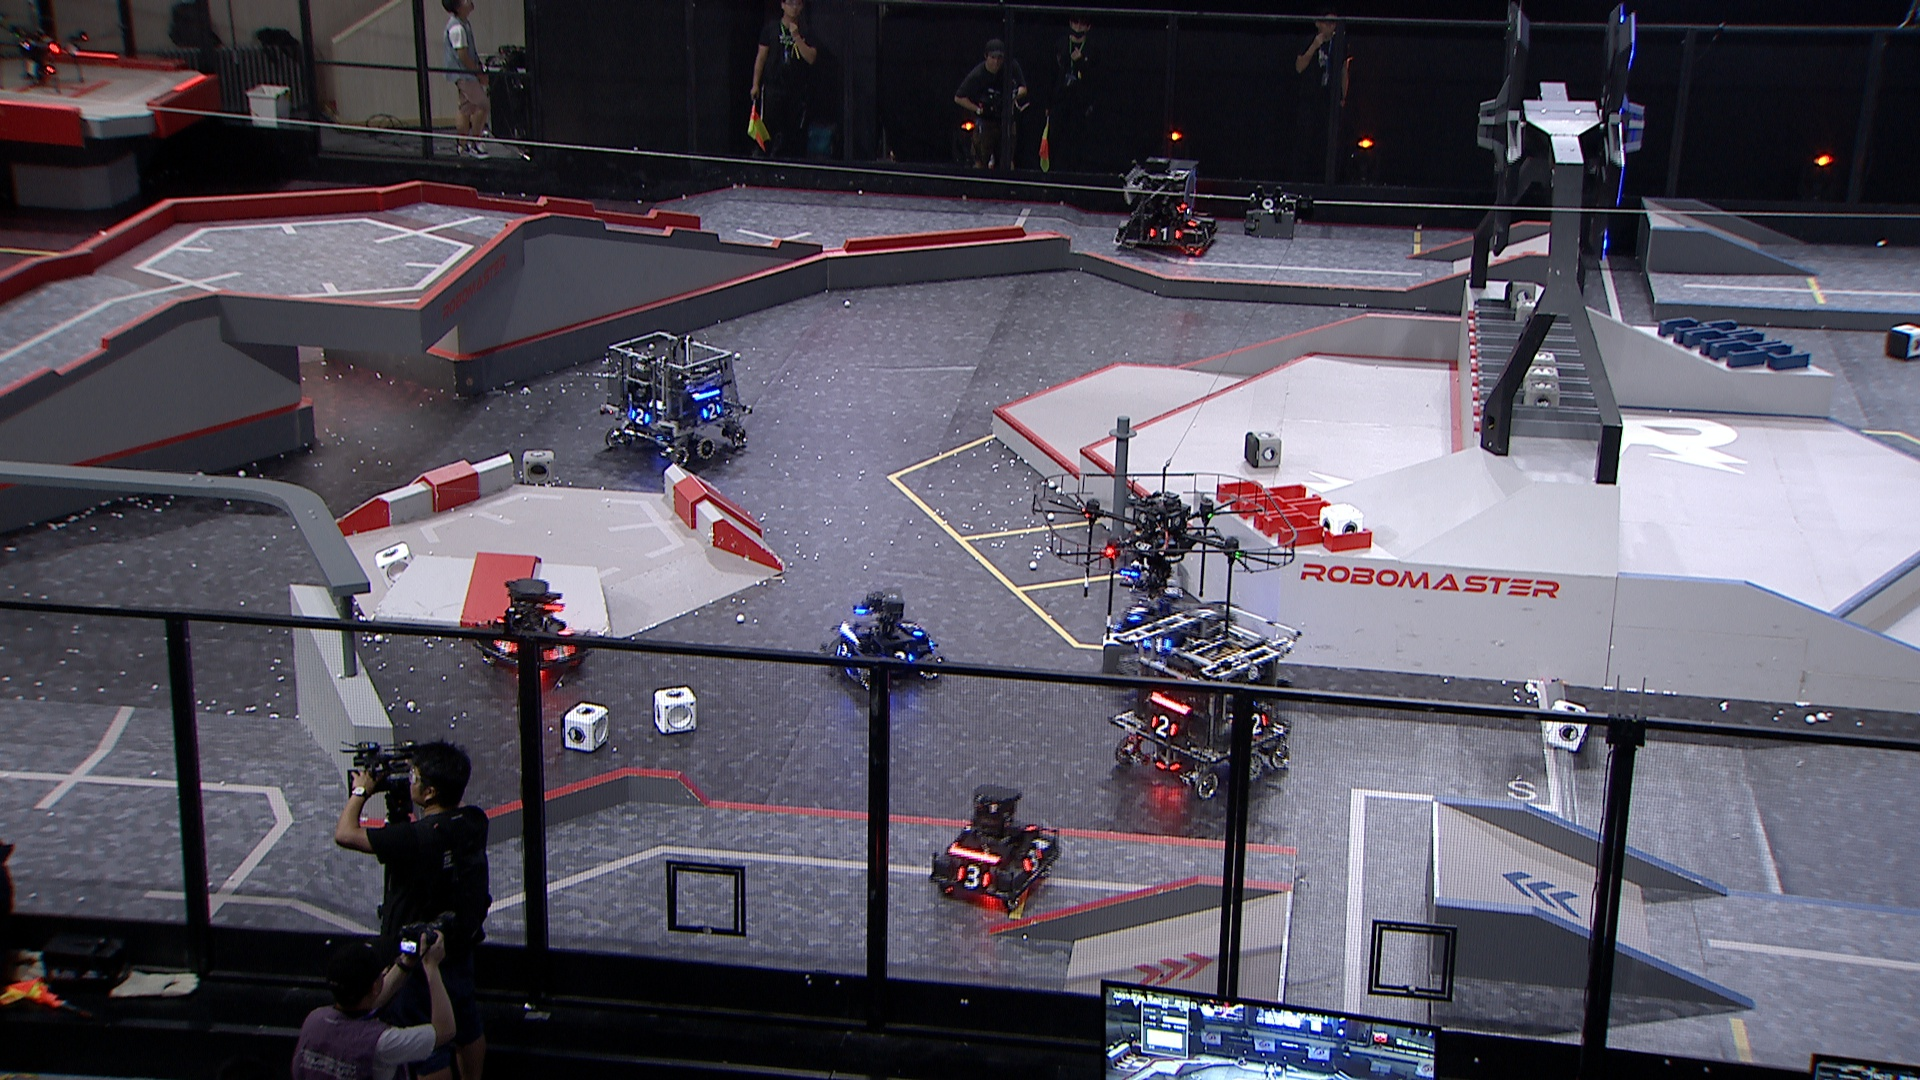armor: (955, 860, 992, 891), (1149, 713, 1178, 738), (1247, 708, 1271, 736), (539, 642, 578, 659), (1122, 599, 1149, 622), (1021, 847, 1044, 873), (1147, 225, 1182, 243), (491, 637, 522, 655), (626, 406, 654, 425), (899, 618, 924, 638), (833, 638, 855, 661), (884, 647, 915, 659), (700, 404, 723, 419), (1199, 223, 1215, 243), (1185, 216, 1207, 229)
car: (1106, 603, 1305, 798), (595, 328, 757, 469), (930, 778, 1063, 909), (822, 583, 945, 694), (471, 575, 593, 679), (1110, 154, 1218, 256), (1102, 570, 1215, 666)
